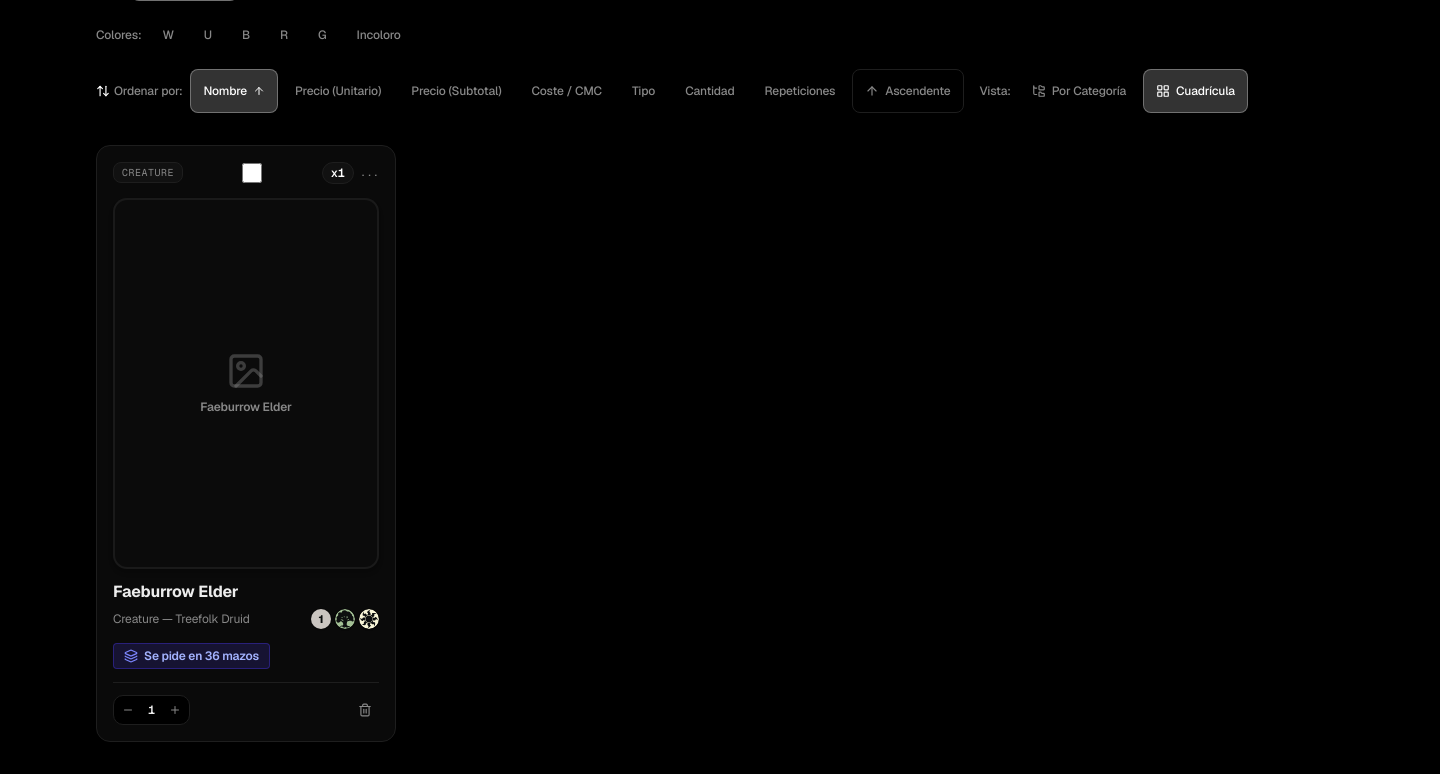
Test: WantsView listing › collapses multiple requesting decks behind modal button
The width and height of the screenshot is (1440, 774).
(page scrolled)
Expected: the text "Y'shtola" is not shown
Click the button "Se pide en 36 mazos" at point(191, 656), box [113,643,270,669]
(page scrolled)
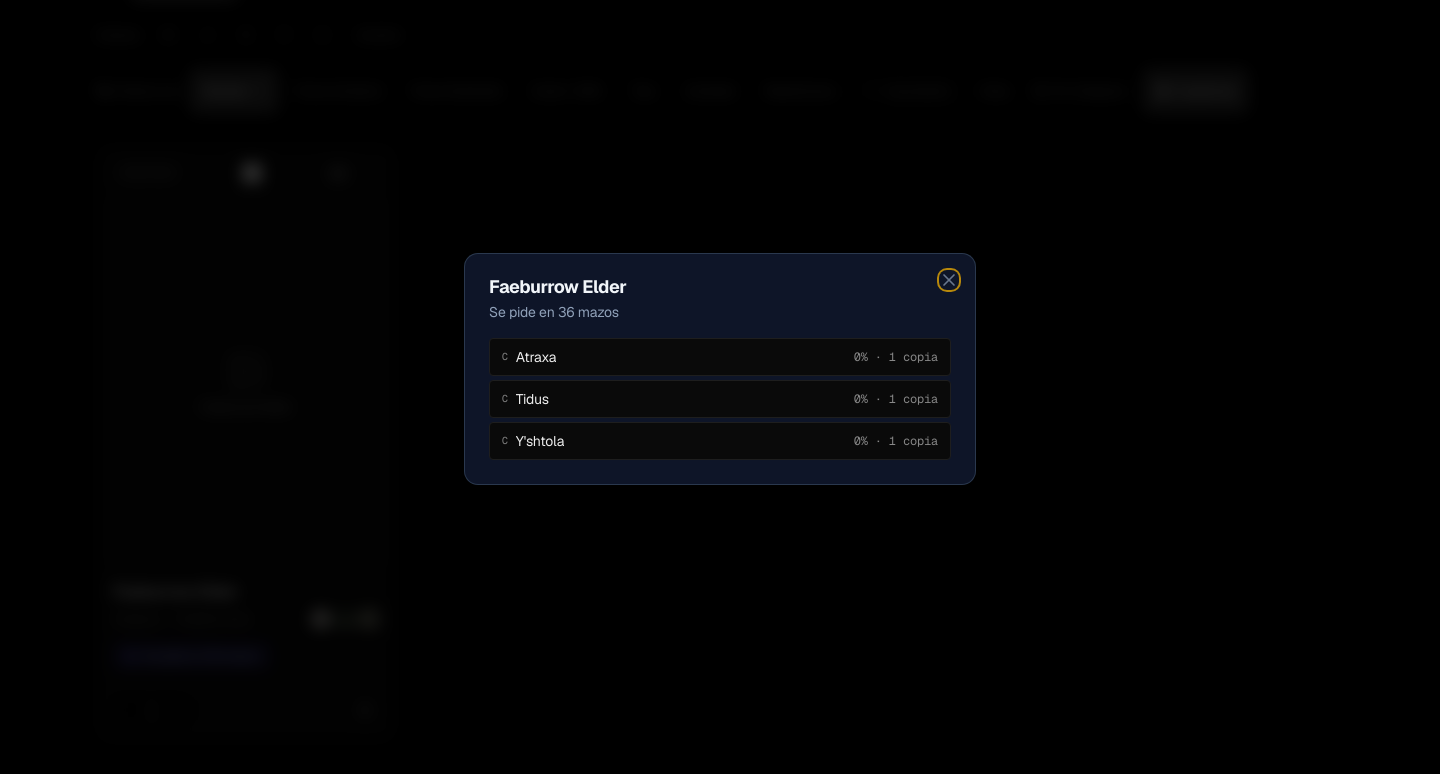
Now the text "Y'shtola" is shown, box [516,431,564,451]
